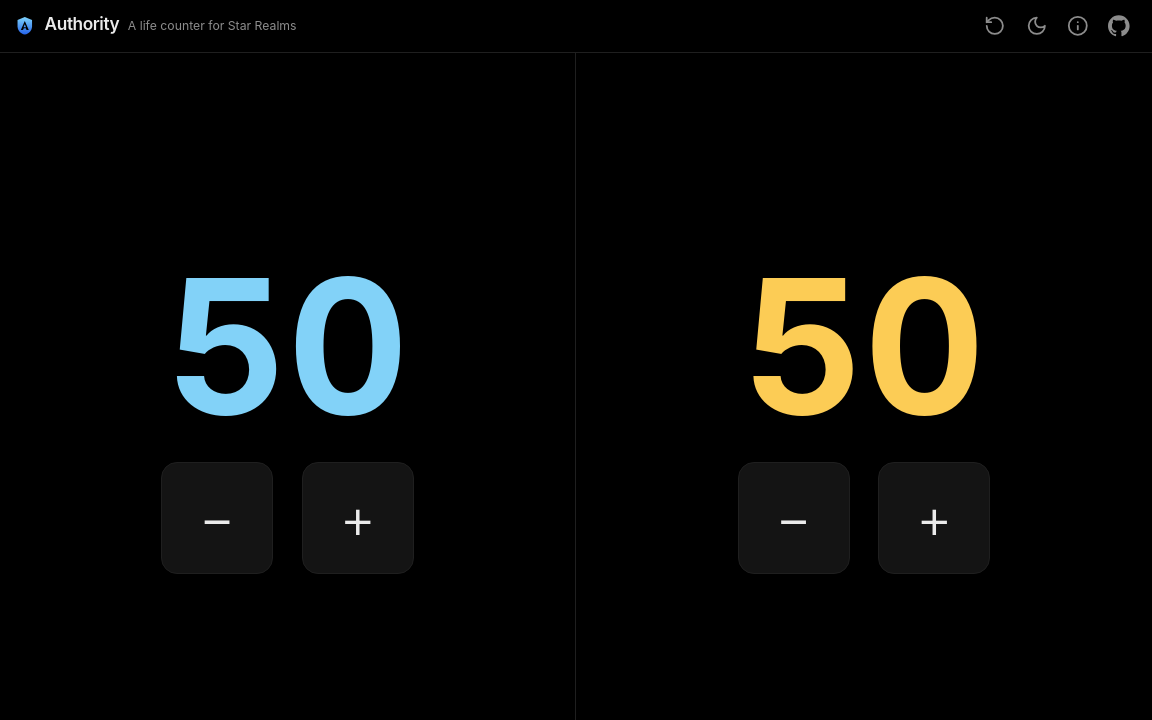
Test: AuthorityBoard › keeps the total once the running tally stops
Step 1. Click the button named "Player 1: lose 1 authority" → (217, 518), box [161,462,273,574]
Wait 2000 ms
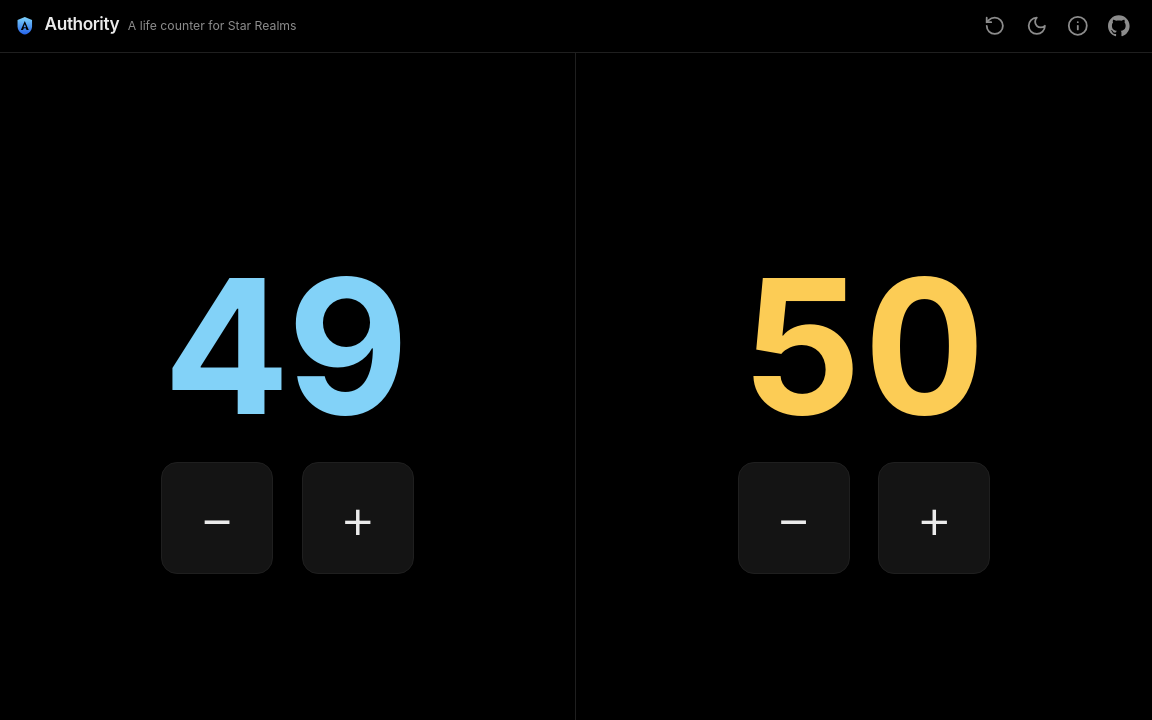
Result: the text "49" is shown at [166,253,408,440]
